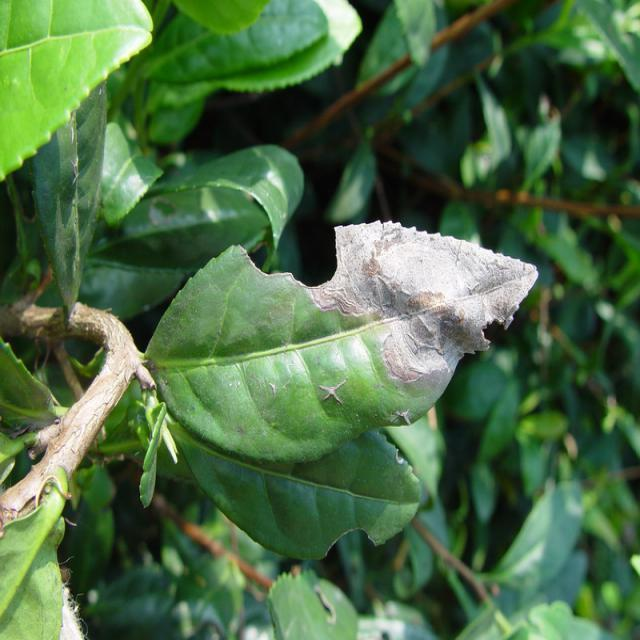Tea cloud leaf blight: (292, 207, 550, 403)
